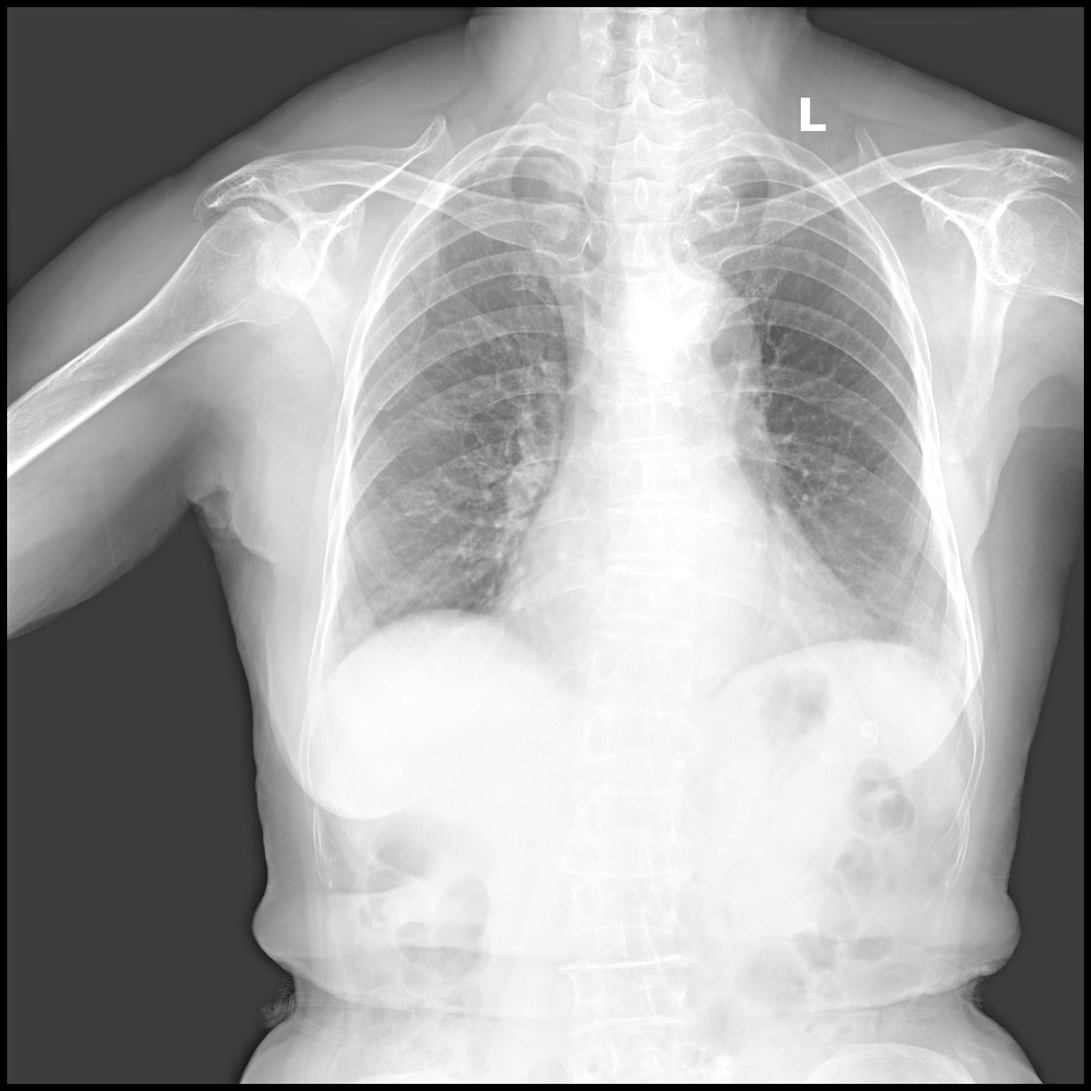Aortic enlargement: (624, 266, 762, 397)
Pleural thickening: (438, 153, 495, 194)
